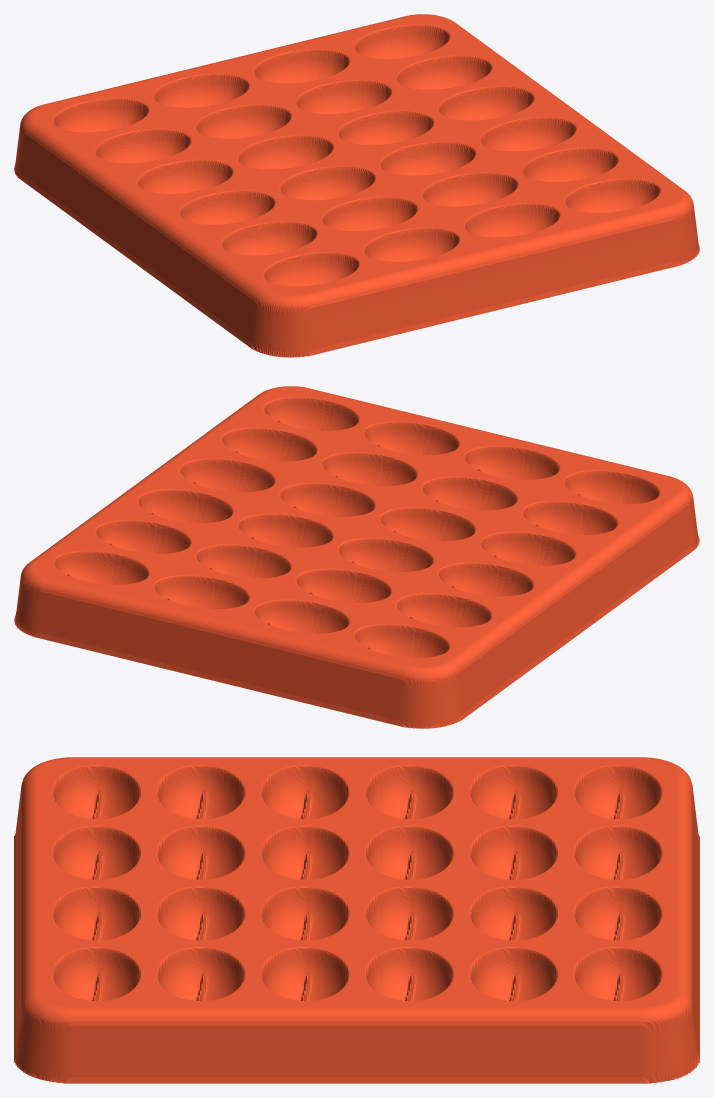
The model's file is mold.glb.
3 renders of one model, top to bottom at view 1: azimuth 30°, elevation 25°; view 2: azimuth 150°, elevation 25°; view 3: azimuth 270°, elevation 25°, orthographic. The views are drawn at different scales.
Visible parts, largest first — view 1: geometry_0; view 2: geometry_0; view 3: geometry_0.
Boxes of the visible parts, box(x1,y1,x2,y2) form: geometry_0: box(14, 14, 699, 357); geometry_0: box(14, 386, 699, 728); geometry_0: box(14, 757, 699, 1083).
Size of the model in its own units: 0.098 by 0.0113 by 0.1059.
